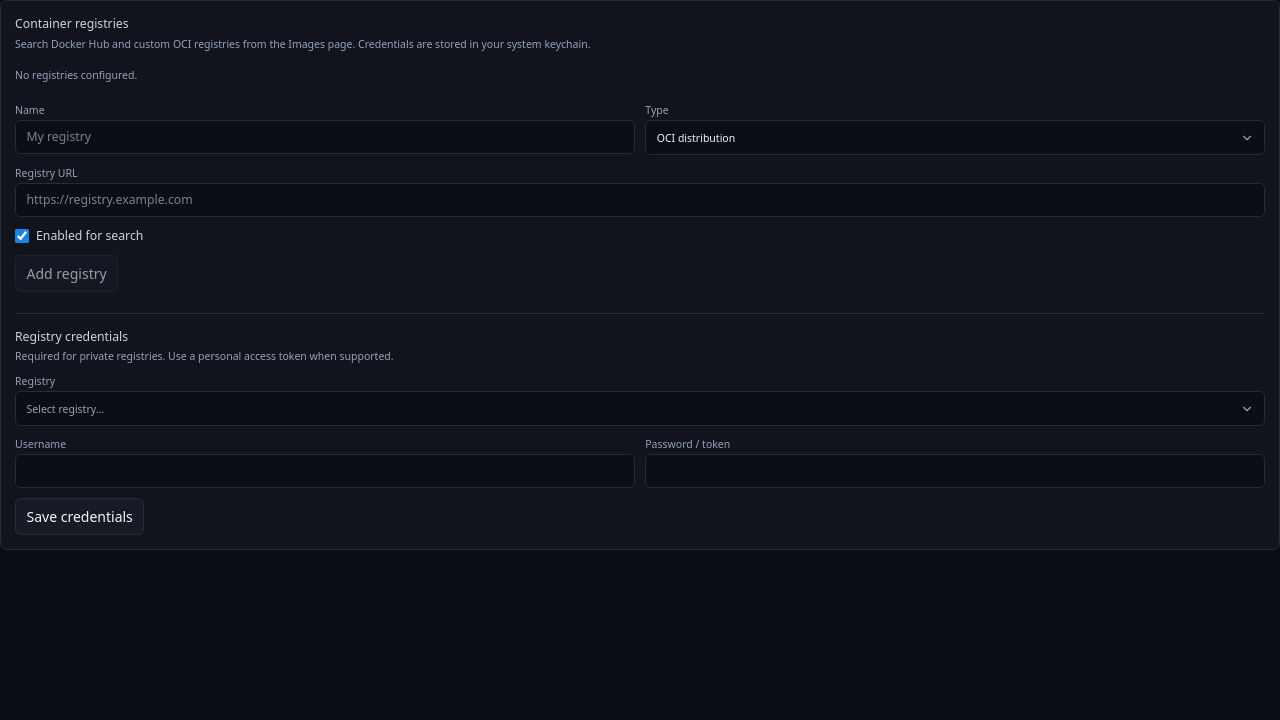
Test: RegistrySettingsPanel › shows validation errors when saving a registry fails
Expected: the text "No registries configured." is shown, [15,68,137,82]
Step 1. Type "Private Hub" into the field labelled "Name" → [325, 137], box [15,120,635,154]
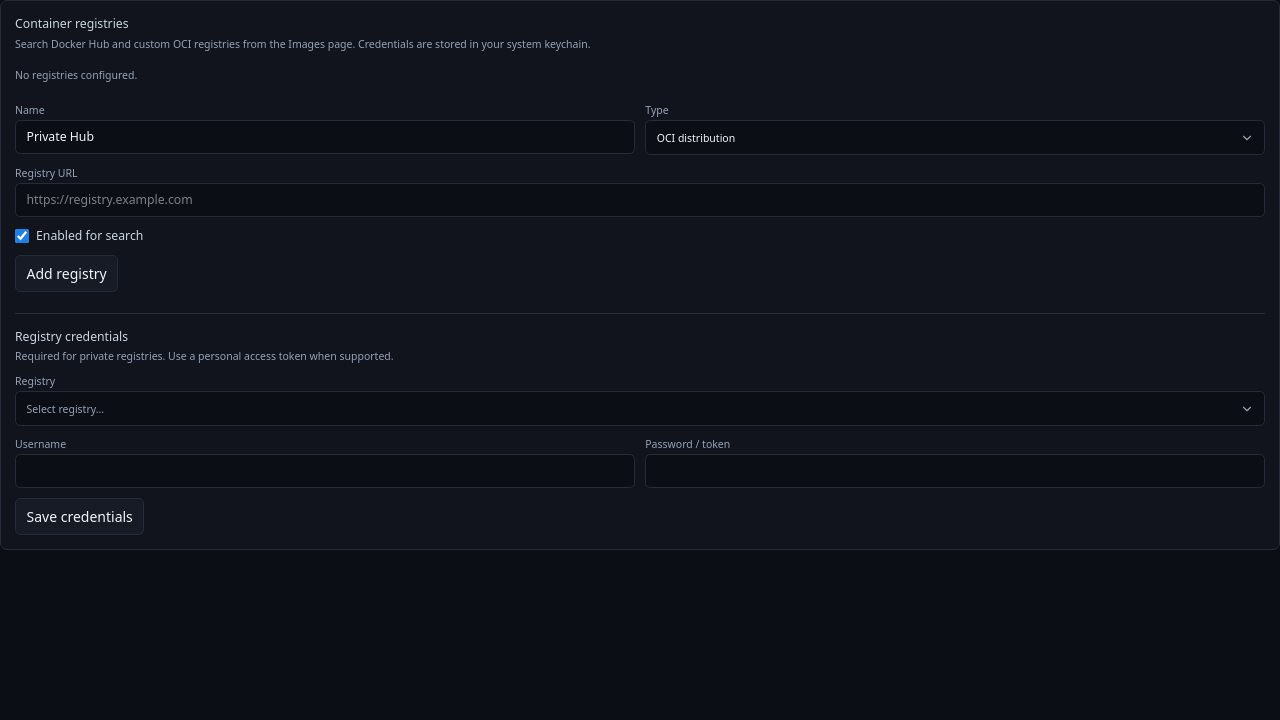
Step 2. Type "http://registry.internal" into the field labelled "Registry URL" → [640, 200], box [15,183,1265,216]
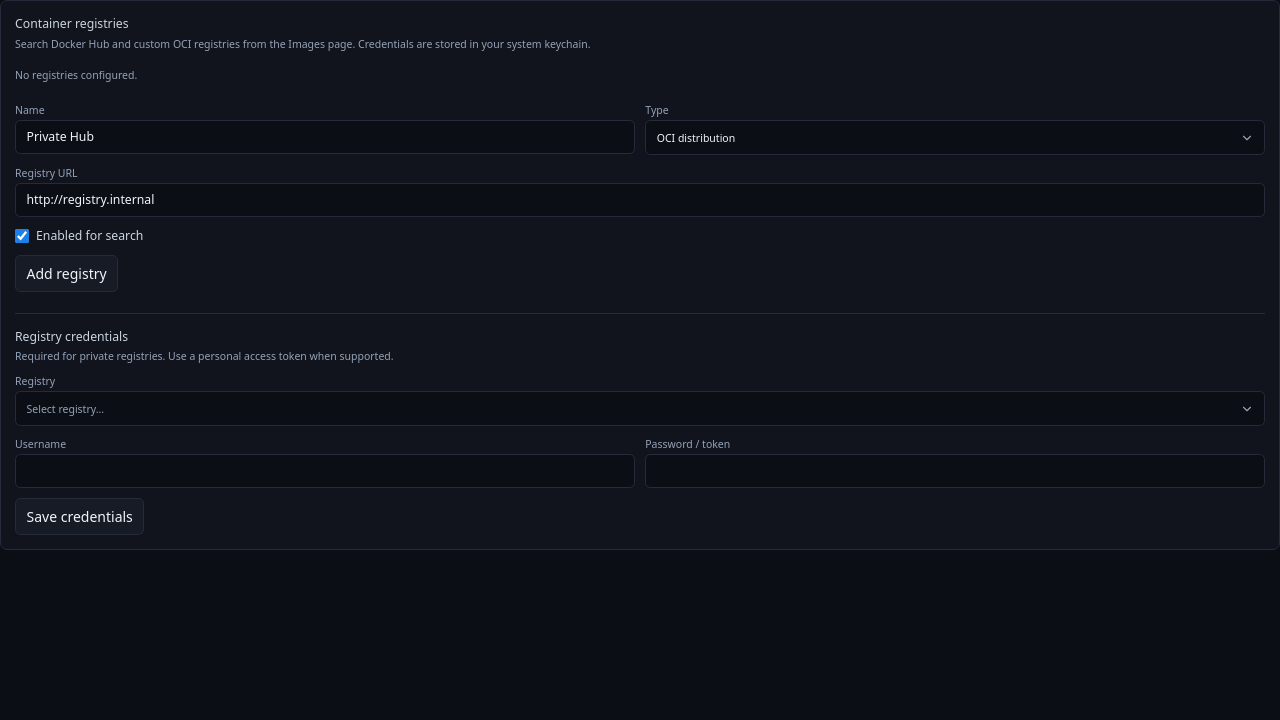
Step 3. Click the button "Add registry" → [67, 274], box [15,255,118,292]
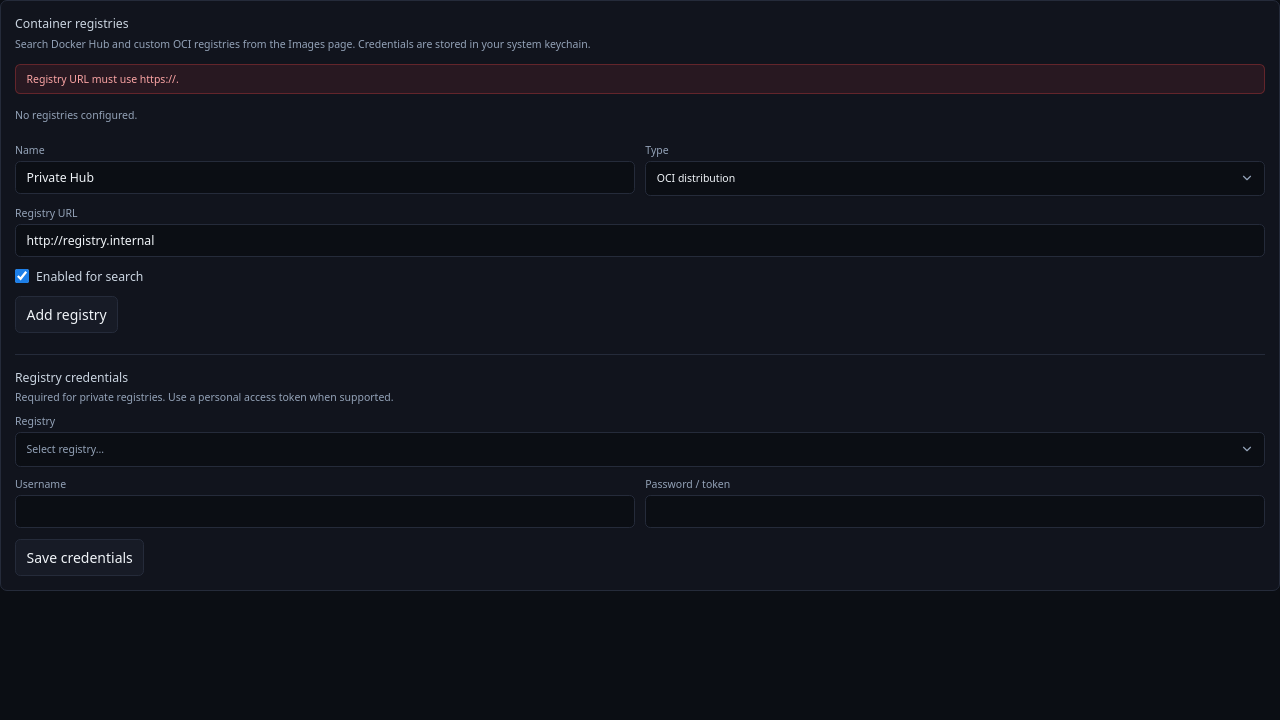
Result: the text "Registry URL must use https://." is shown at [15,64,1265,94]
